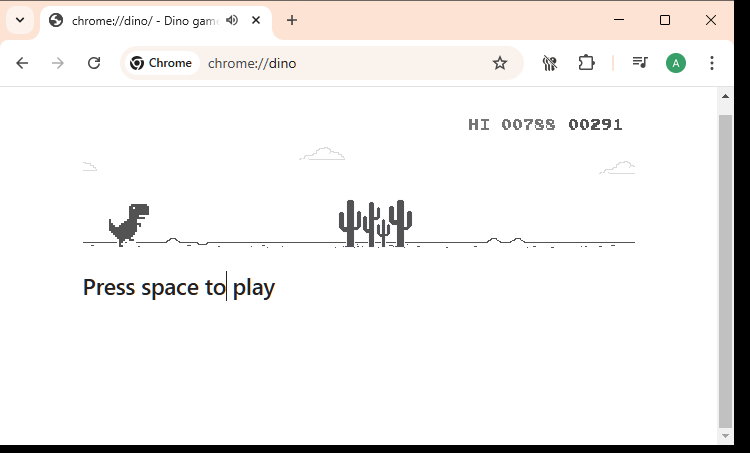cactus: (338, 199, 362, 248), (389, 199, 412, 247), (362, 200, 380, 248), (376, 219, 391, 248)
dino: (108, 203, 150, 249)
